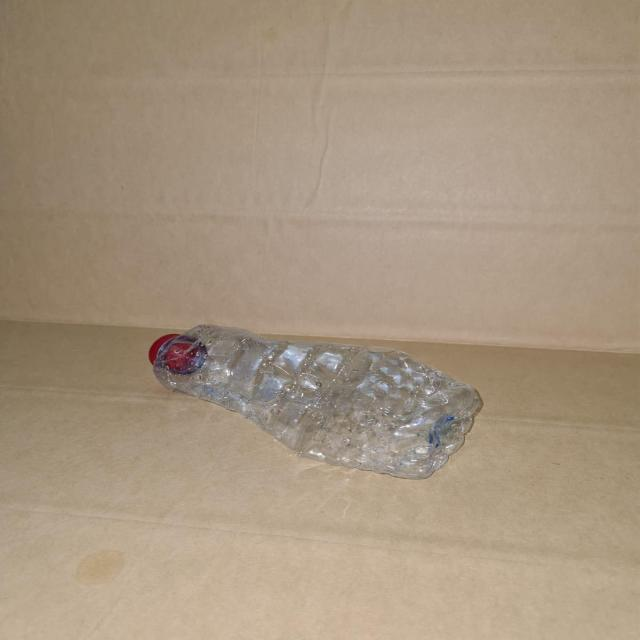bottle: (132, 316, 500, 478)
